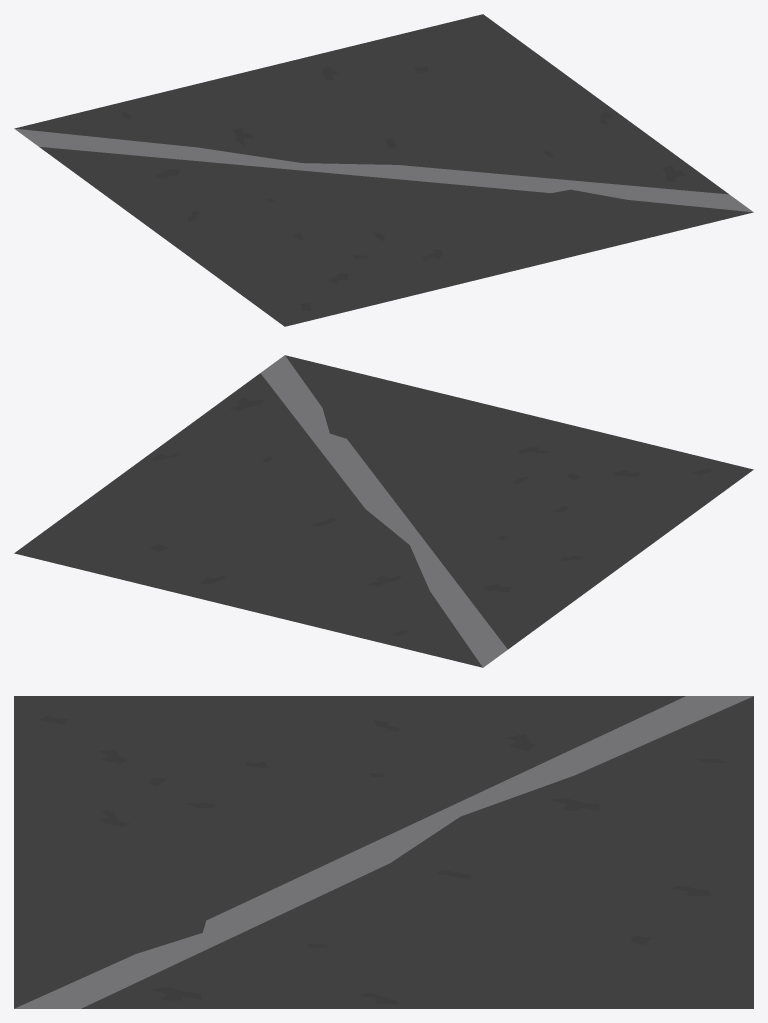
File: SM_Env_Road_Parking_01.glb
3 renders of one model, top to bottom at view 1: azimuth 30°, elevation 25°; view 2: azimuth 150°, elevation 25°; view 3: azimuth 270°, elevation 25°, orthographic. The views are drawn at different scales.
Parts seen in each view (by area): view 1: SM_Env_Road_Parking_01; view 2: SM_Env_Road_Parking_01; view 3: SM_Env_Road_Parking_01.
Boxes of the visible parts, x1=… form: SM_Env_Road_Parking_01: x1=14, y1=14, x2=753, y2=326; SM_Env_Road_Parking_01: x1=14, y1=355, x2=753, y2=667; SM_Env_Road_Parking_01: x1=14, y1=696, x2=753, y2=1008.
Size of the model in its own units: 5 by 0 by 5.
Materials: 1 (1 with a texture image).
